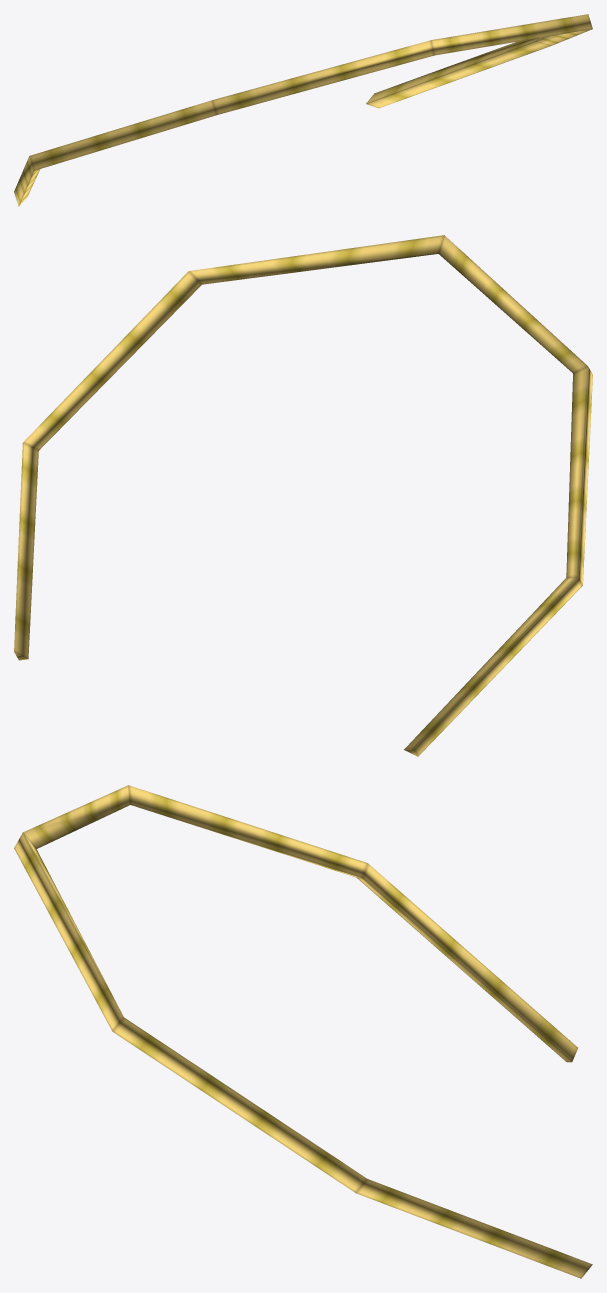
The picture shows the model from 3 angles, top to bottom: view 1: azimuth 30°, elevation 25°; view 2: azimuth 150°, elevation 25°; view 3: azimuth 270°, elevation 25°; orthographic projection. The views are drawn at different scales.
Visible parts, largest first — view 1: T1L6M004_7; view 2: T1L6M004_7; view 3: T1L6M004_7.
Boxes of the visible parts, x1,y1,x2,y2 form: T1L6M004_7: (14, 14, 592, 206); T1L6M004_7: (14, 235, 592, 756); T1L6M004_7: (14, 785, 592, 1278).
Size of the model in its own units: 0.7744 by 0.3993 by 0.6026.
